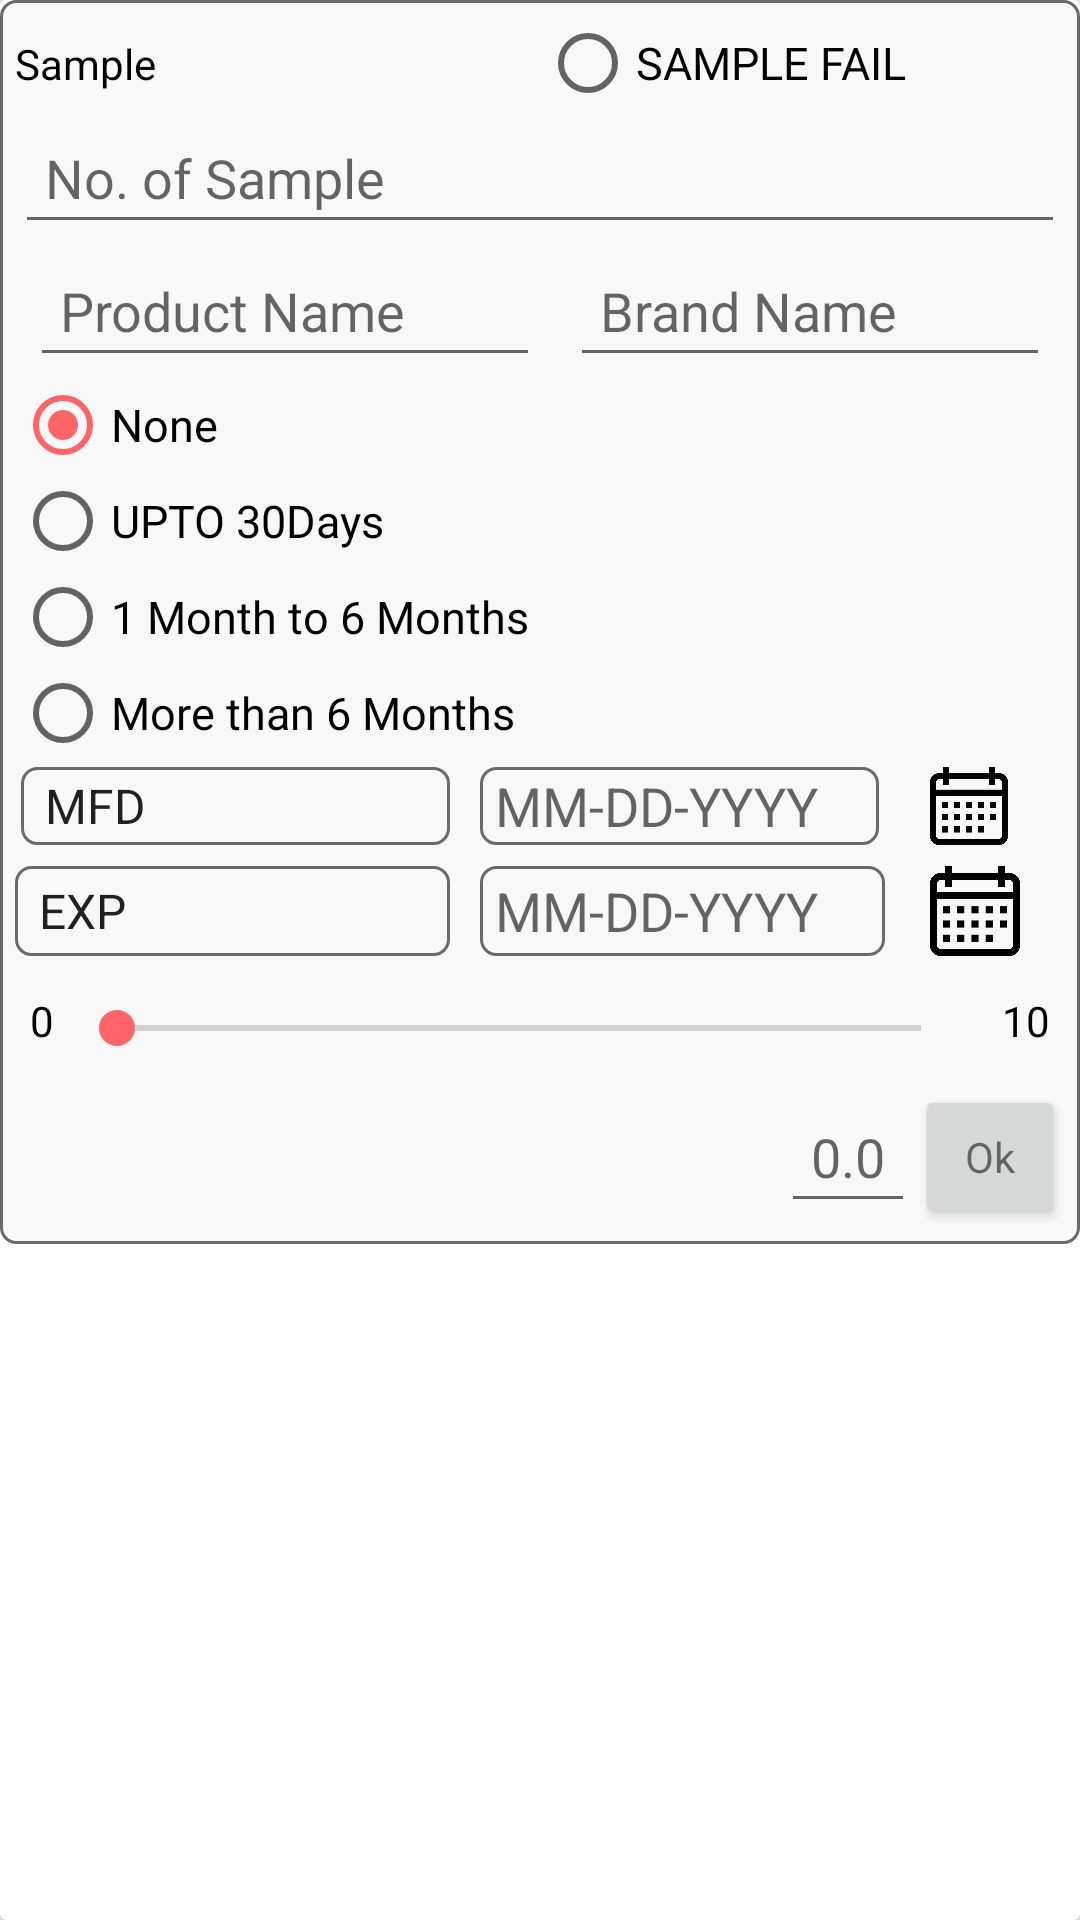

Icons on this 1080*1920 Android screen, each with the point to tap as (x=x, y=y):
calendar: (x=969, y=806), (x=975, y=911)
